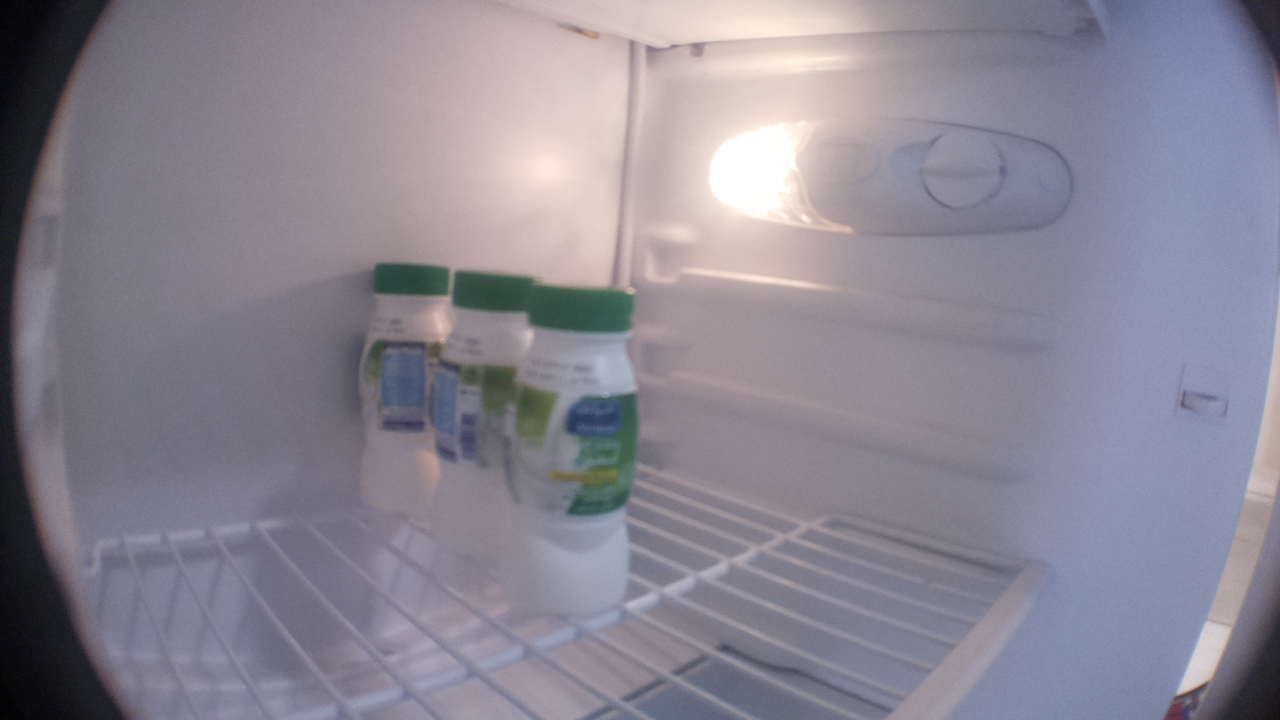laban: (512, 285, 637, 611), (433, 270, 538, 558), (352, 261, 451, 522)
